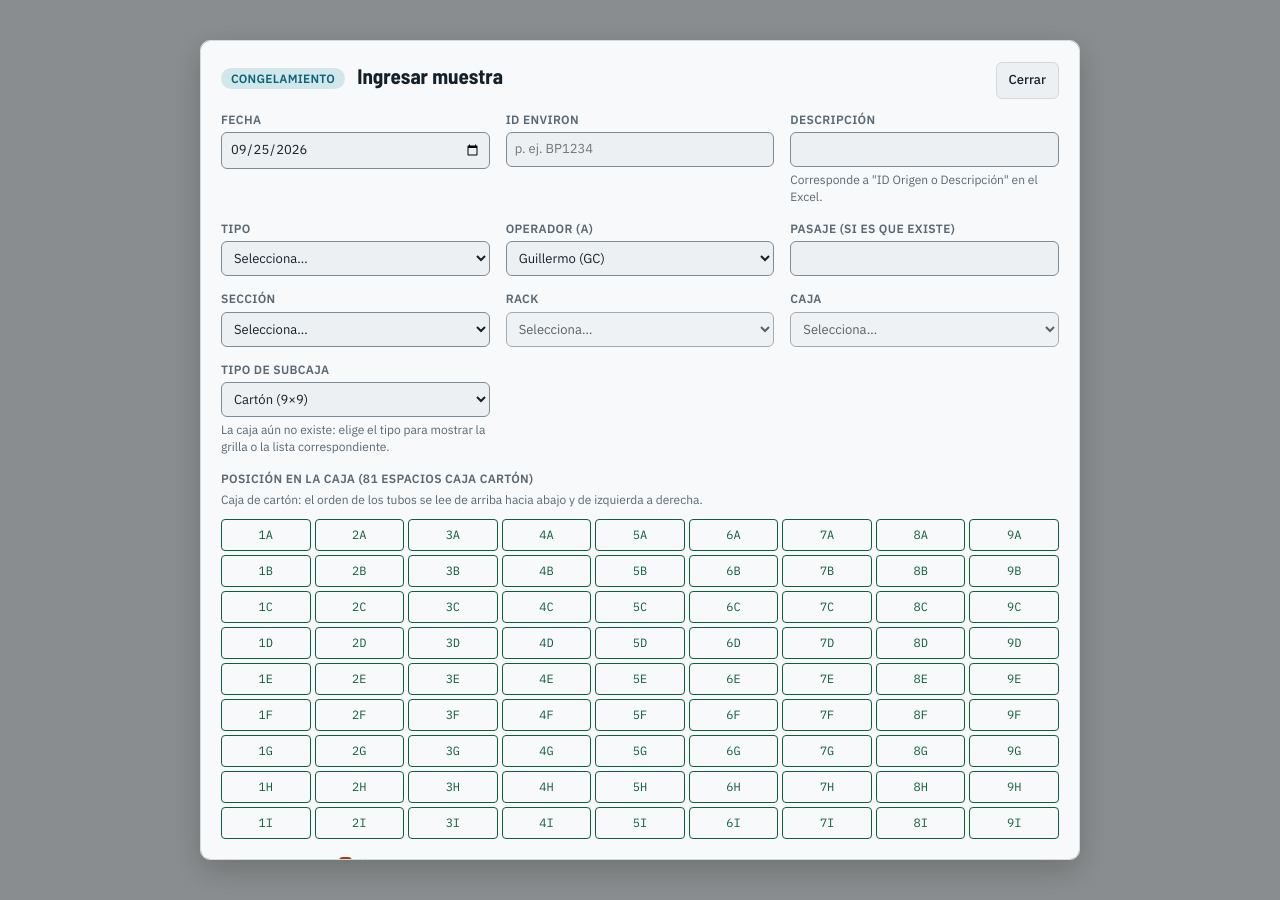
Test: FreezeForm › muestra la grilla de cartón o la lista plástica según el tipo de subcaja elegido
Expected: the element named "81 espacios caja cartón" is shown, [221,519,1059,839]
Expected: the element "100 espacios caja plástica" is not shown
Select "Plástica (10×10)" in the dropdown labelled "Tipo de subcaja" at (355, 400), box [221,382,490,417]
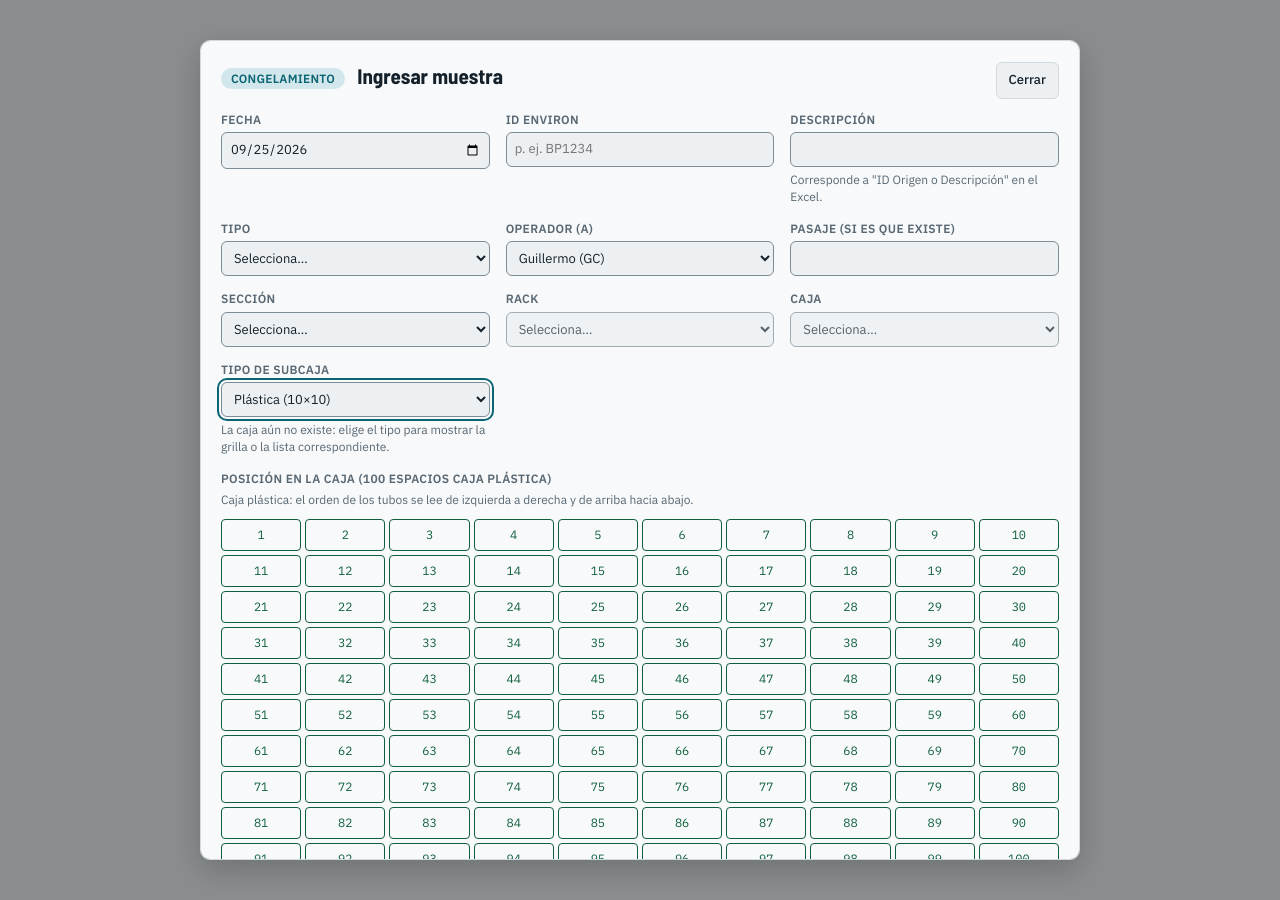
Expected: the element named "100 espacios caja plástica" is shown, [221,519,1059,860]
Expected: the label "81 espacios caja cartón" is gone
